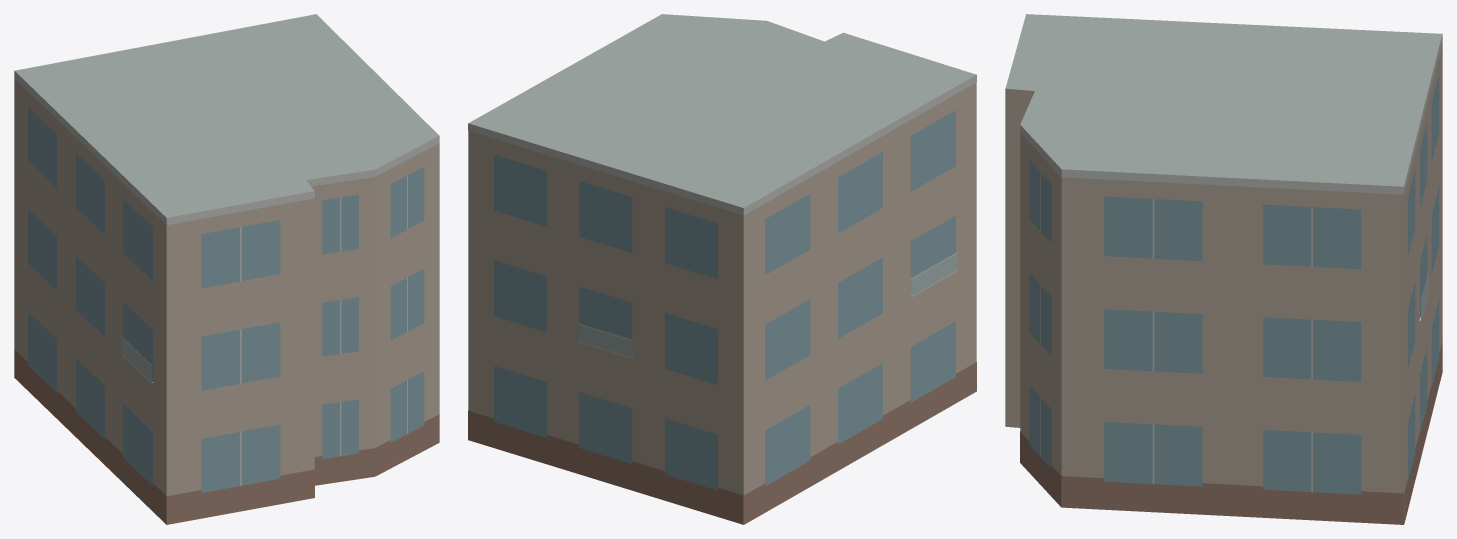
Rendered from survey-upis-32838304.glb.
3 renders of one model, left to right at view 1: azimuth 30°, elevation 25°; view 2: azimuth 150°, elevation 25°; view 3: azimuth 270°, elevation 25°, orthographic. The views are drawn at different scales.
Visible parts, largest first — view 1: survey-upis-32838304.tmp; view 2: survey-upis-32838304.tmp; view 3: survey-upis-32838304.tmp.
Boxes of the visible parts, x1,y1,x2,y2 form: survey-upis-32838304.tmp: (14, 14, 439, 524); survey-upis-32838304.tmp: (468, 14, 976, 524); survey-upis-32838304.tmp: (1005, 14, 1442, 524).
Size of the model in its own units: 11.29 by 10.3 by 12.08.
